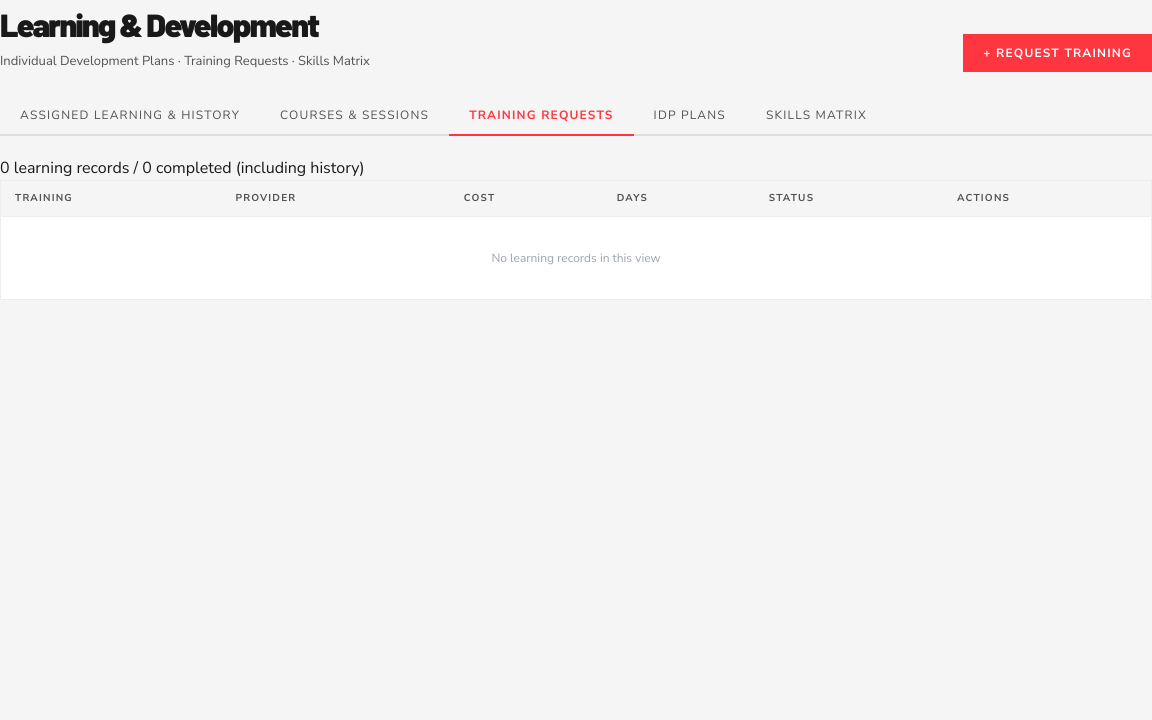
missing employee link cannot fall back to account ID when requesting
Click the button "+ Request Training" at (1058, 52), box [963,34,1151,72]
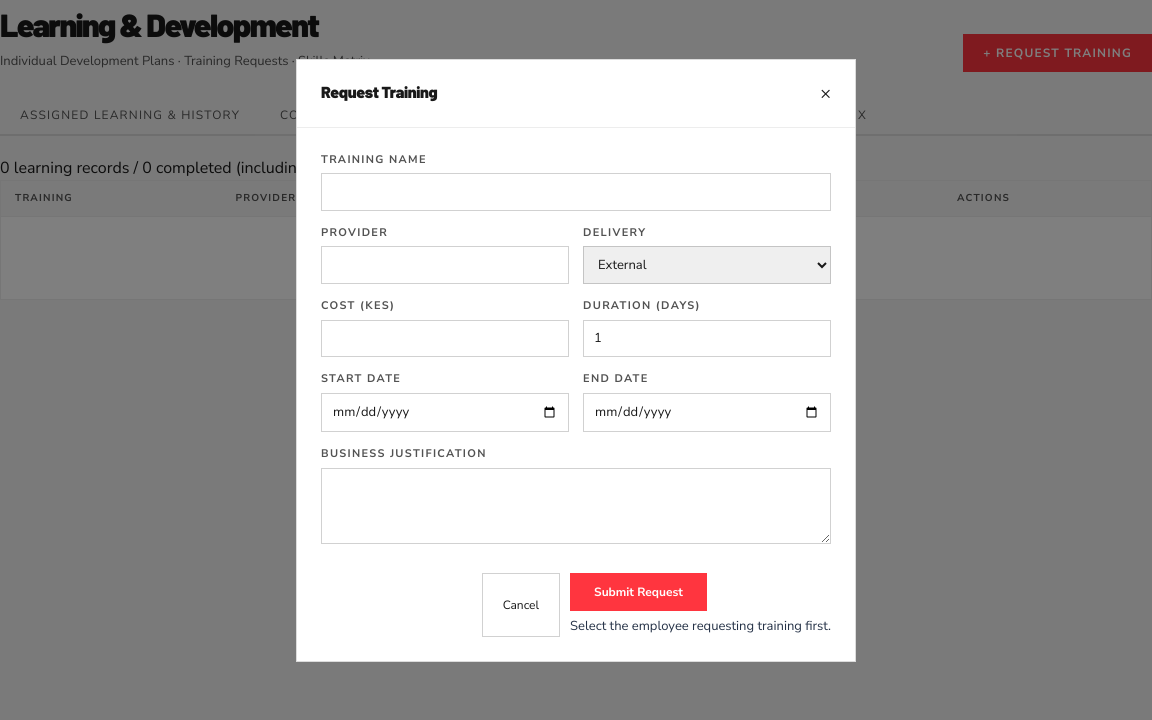
Expected: the button with test id "submit-training-btn" is disabled, [570,573,707,611]
